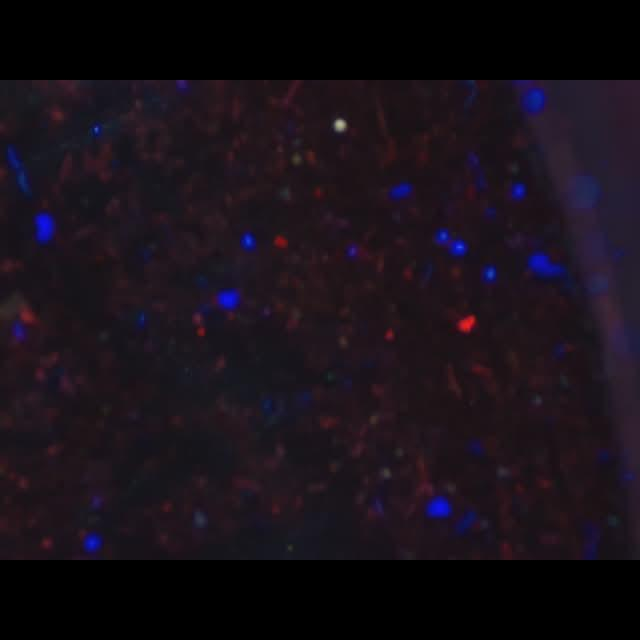microbeads: (332, 115, 348, 131)
